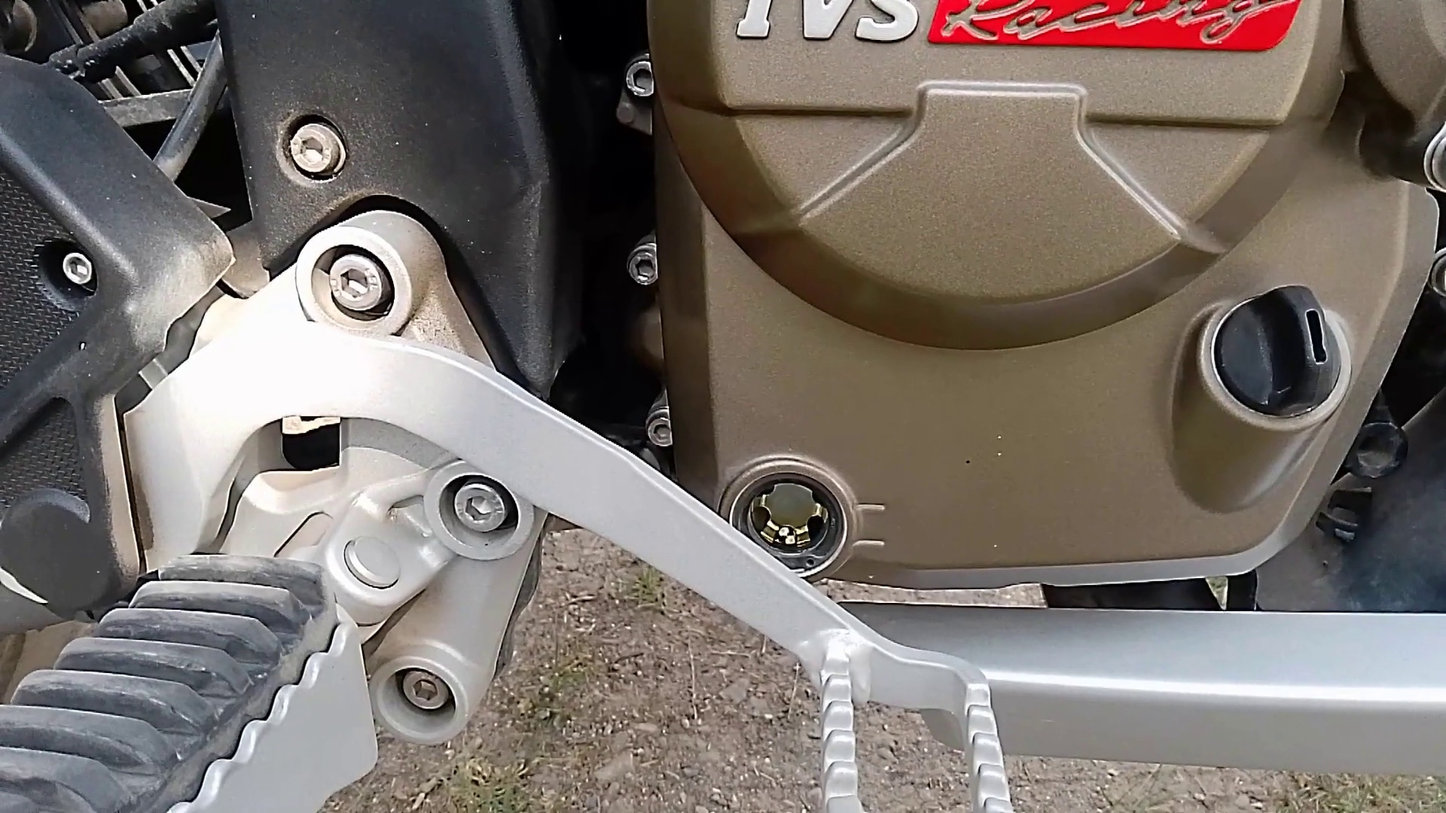engine: (599, 0, 1446, 653)
oil_cap: (1199, 273, 1361, 435)
oil_marker: (710, 440, 908, 587)
